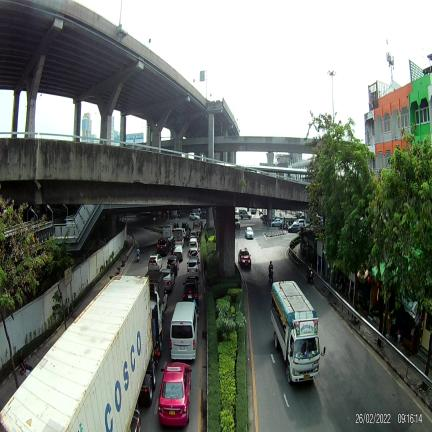car: (183, 278, 199, 304), (161, 268, 175, 292), (166, 255, 180, 276), (238, 248, 251, 268), (148, 254, 162, 271), (187, 259, 199, 278), (157, 238, 171, 254), (173, 244, 183, 261), (189, 248, 199, 261), (287, 222, 300, 232), (239, 209, 251, 219), (188, 238, 198, 249), (245, 227, 254, 239), (271, 218, 282, 227), (189, 213, 200, 220), (190, 230, 198, 239), (235, 218, 240, 228), (250, 208, 256, 214), (259, 209, 263, 215)
motorbike: (308, 270, 313, 284), (268, 269, 273, 283), (137, 255, 140, 262)
taxi: (158, 362, 191, 426)
truck: (271, 281, 325, 384), (173, 228, 185, 246), (162, 225, 173, 243), (135, 427, 138, 430)
truck trailer: (0, 276, 157, 432)
van: (170, 301, 198, 359)
